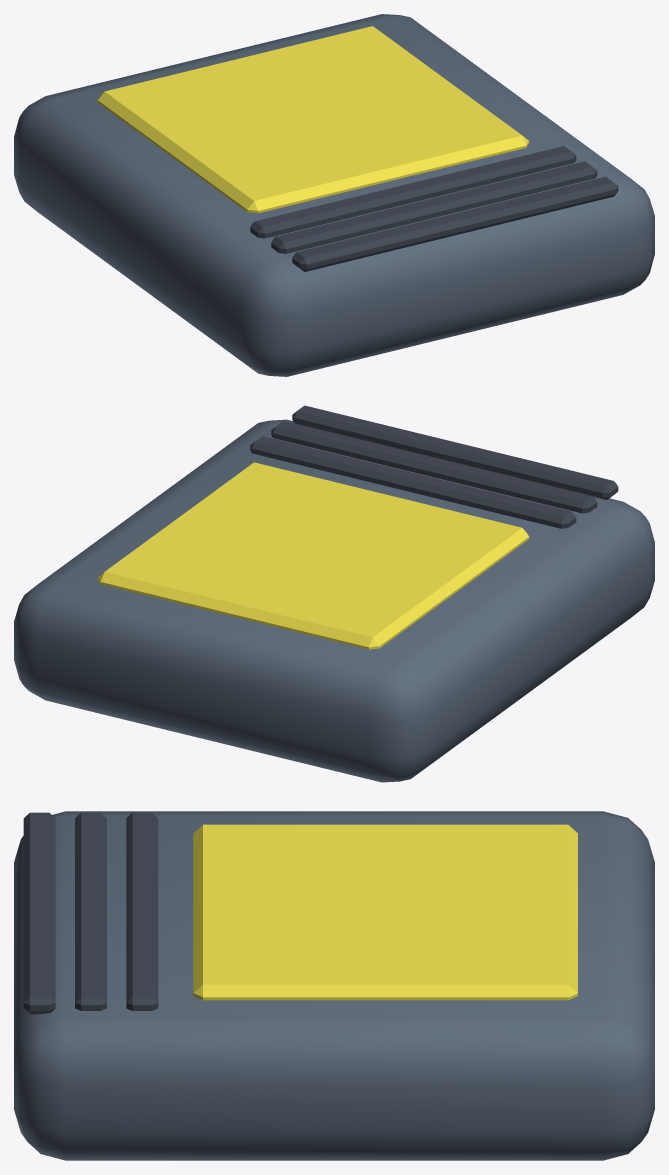
File: videogame_cartucho_amarelo.glb
3 renders of one model, top to bottom at view 1: azimuth 30°, elevation 25°; view 2: azimuth 150°, elevation 25°; view 3: azimuth 270°, elevation 25°, orthographic. The views are drawn at different scales.
Parts seen in each view (by area): view 1: videogame_cartucho_amarelo; view 2: videogame_cartucho_amarelo; view 3: videogame_cartucho_amarelo.
Part boxes in pixels (bbox=[...]): videogame_cartucho_amarelo: bbox=[14, 14, 654, 376]; videogame_cartucho_amarelo: bbox=[14, 405, 654, 782]; videogame_cartucho_amarelo: bbox=[14, 811, 654, 1160].
Bounding box in the file's own units: 0.09 × 0.026 × 0.1.
1 material, 1 textured.
